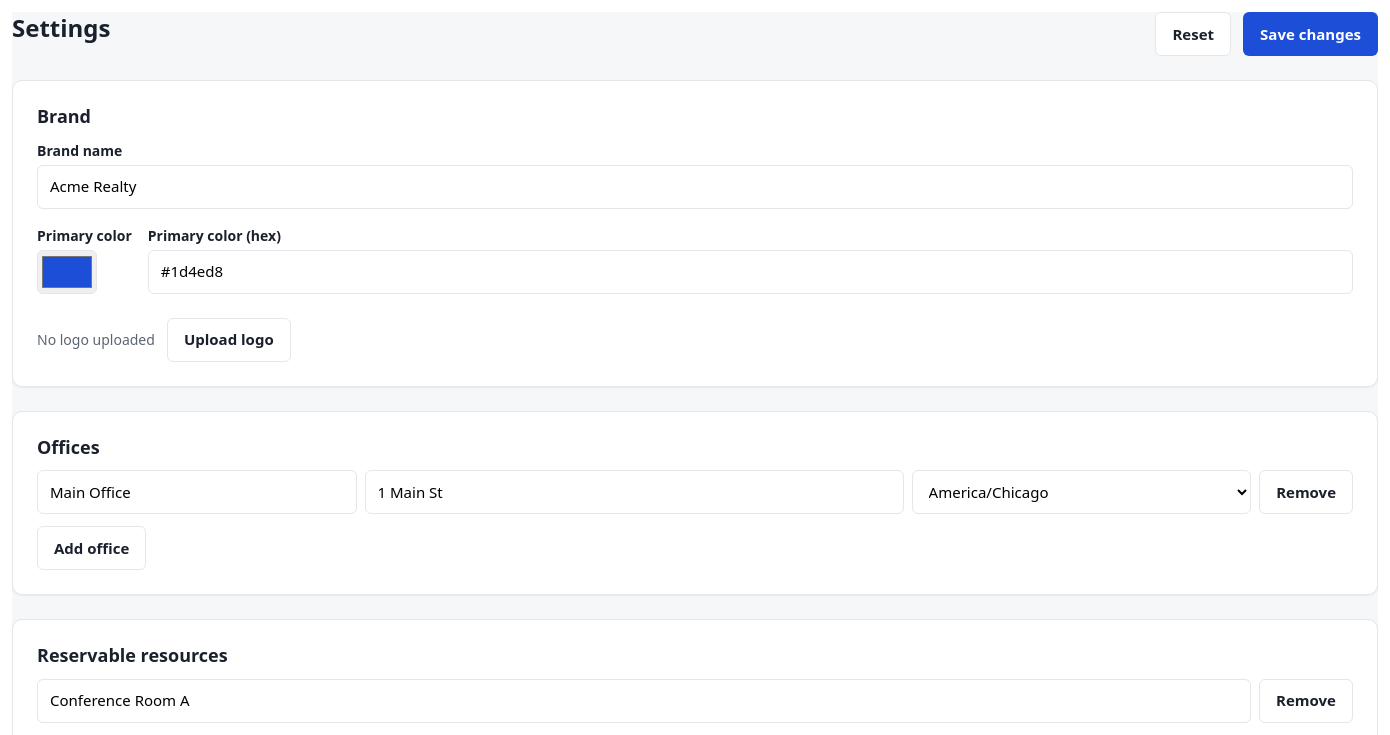
it: SettingsPage › blocks Save with a hint while the hex color is invalid
Replace the text in the field labelled "Primary color (hex)" with "#12": {"x": 750, "y": 272} [148,250,1353,294]
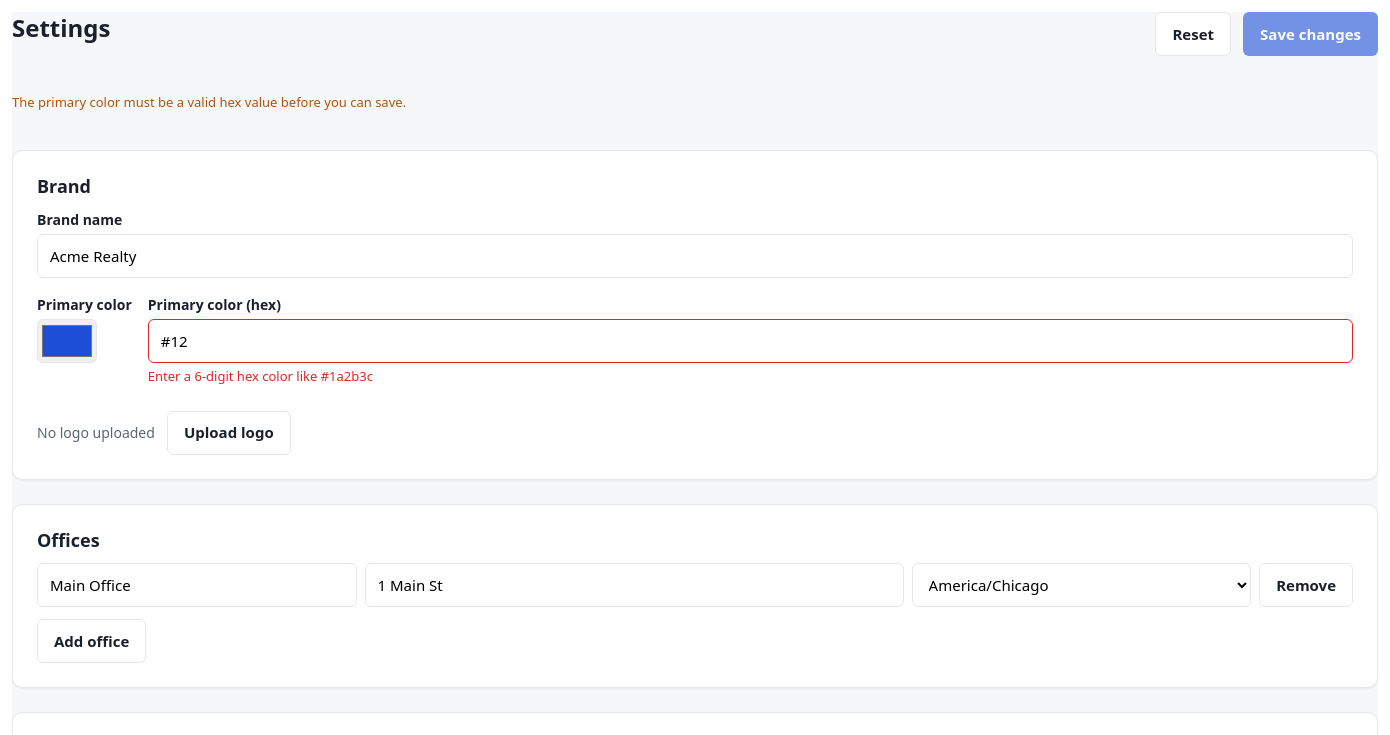
Expected: the button "Save changes" is disabled, [1243,12,1378,56]
Expected: the text "Enter a 6-digit hex color like #1a2b3c" is shown, [148,367,373,385]
